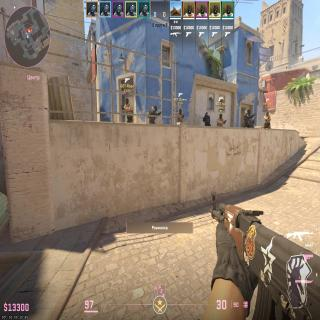CT-Body: (148, 105, 158, 124), (242, 108, 251, 128), (203, 112, 211, 126), (249, 117, 255, 127)
CT-Head: (247, 108, 251, 115), (154, 105, 157, 111), (205, 112, 209, 116)
T-Body: (124, 97, 134, 122), (264, 111, 271, 128), (177, 109, 184, 122), (217, 114, 224, 126)
T-Head: (125, 97, 129, 105), (219, 114, 223, 120), (266, 111, 269, 116), (179, 109, 182, 113)
